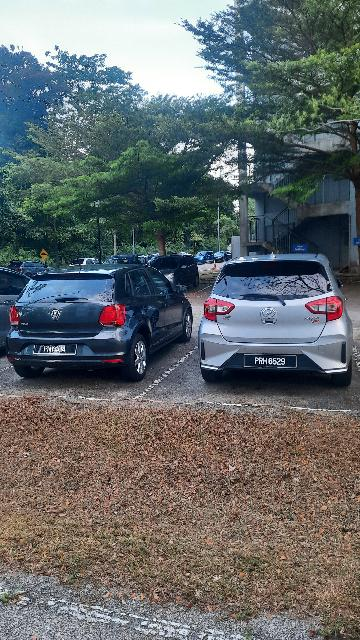License_Plate: (241, 349, 304, 371), (36, 342, 78, 356)
car: (5, 260, 226, 383), (200, 248, 354, 393)
